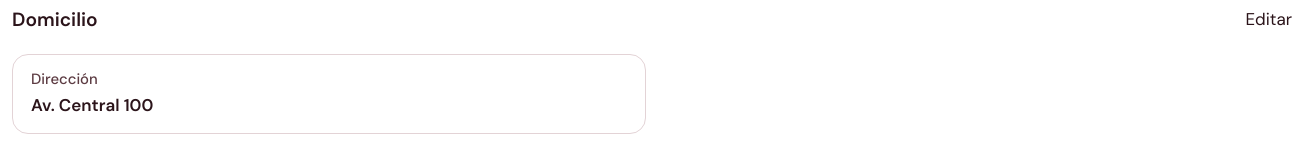
DataSection (alternancia vista y edición animada) › al cancelar colapsa, desmonta el formulario y devuelve el foco a «Editar»
Later steps or results of the test are not shown.
Click the button with aria-label "Editar domicilio" at (1269, 20), box x1=1246 y1=7 x2=1292 y2=33
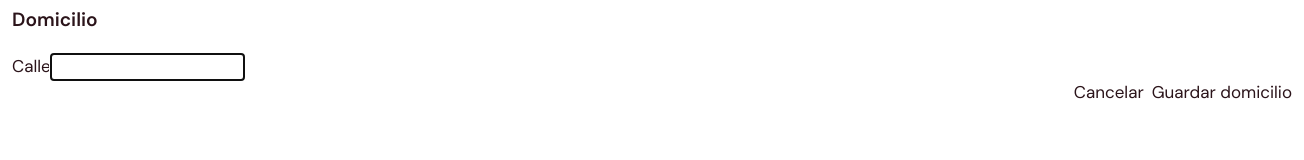
Result: the field labelled "Calle" is shown at x1=51 y1=54 x2=244 y2=80
Click the button "Cancelar" at (1109, 92), box x1=1074 y1=80 x2=1144 y2=105
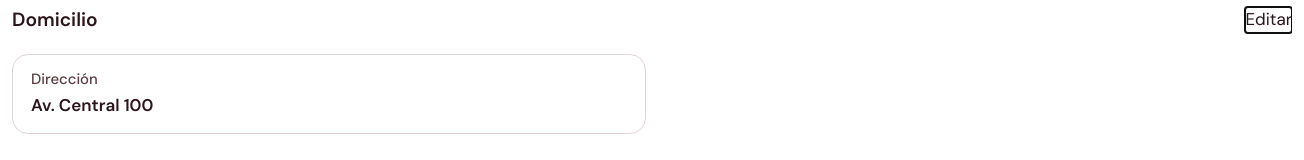
Result: the label labelled "Calle" is gone
